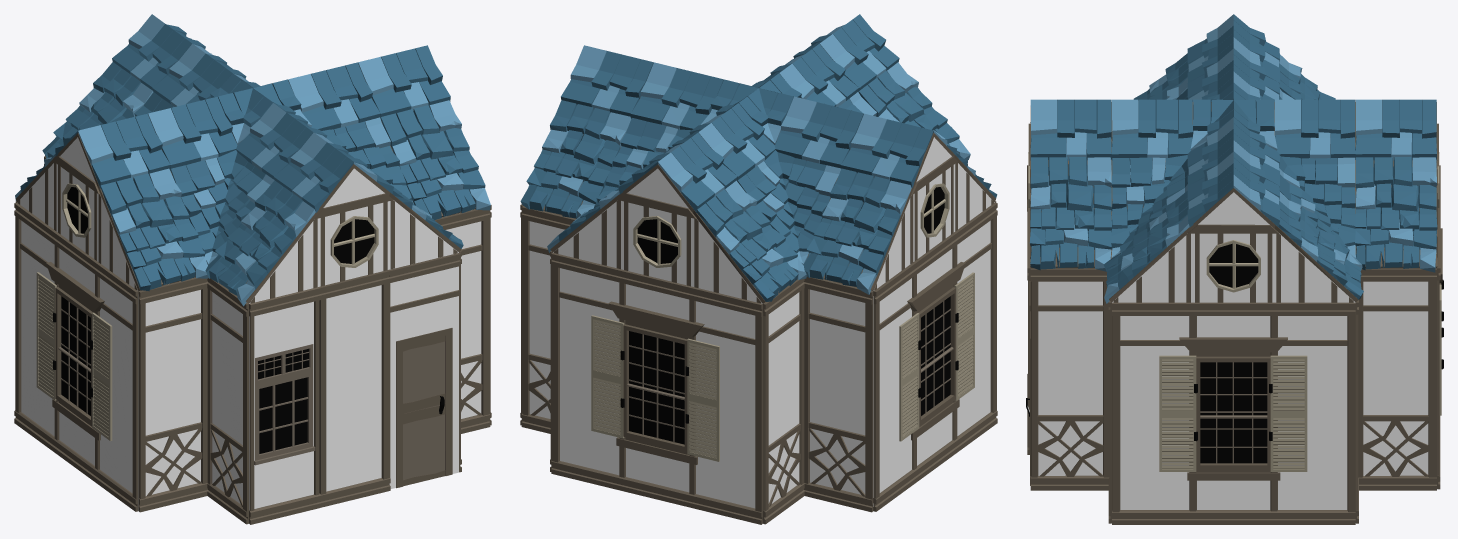
File: House_02_full.glb
3 views of the same model, side by side, from view 1: azimuth 30°, elevation 25°; view 2: azimuth 150°, elevation 25°; view 3: azimuth 270°, elevation 25° (orthographic).
Visible parts, largest first — view 1: WINDOW_07_2, WALL_03_2, WINDOW_04_2, WALL_04_3, DOOR_01_2, WALL_04_2, ROOF_base_3, ROOF_base_5, WALL_04_8, ROOF_base_2, ROOF_inner_corner_2, ROOF_Window_round_5 (+21 smaller); view 2: WINDOW_07_3, WINDOW_07_2, WALL_04_4, WALL_04_5, ROOF_base_9, ROOF_base_7, WALL_04_7, ROOF_base_8, ROOF_inner_corner_5, ROOF_Window_round_3, ROOF_base_small_15, ROOF_base_small_11 (+19 smaller); view 3: WINDOW_07_4, WALL_04_9, WALL_04_6, ROOF_base_6, ROOF_base_4, ROOF_Window_round_2, ROOF_inner_corner_3, ROOF_inner_corner_4, ROOF_base_small_8, ROOF_base_small_14, ROOF_base_small_13, ROOF_base_small_7 (+20 smaller).
Part boxes in pixels (bbox=[...]): WINDOW_07_2: bbox=[14, 202, 138, 511]; WALL_03_2: bbox=[319, 270, 390, 507]; WINDOW_04_2: bbox=[249, 287, 320, 524]; WALL_04_3: bbox=[138, 277, 207, 512]; DOOR_01_2: bbox=[389, 252, 460, 488]; WALL_04_2: bbox=[207, 278, 248, 524]; ROOF_base_3: bbox=[98, 168, 208, 291]; ROOF_base_5: bbox=[381, 100, 490, 219]; WALL_04_8: bbox=[435, 209, 490, 433]; ROOF_base_2: bbox=[205, 180, 318, 306]; ROOF_inner_corner_2: bbox=[170, 150, 274, 264]; ROOF_Window_round_5: bbox=[319, 201, 388, 286]; WINDOW_07_3: bbox=[551, 252, 762, 524]; WINDOW_07_2: bbox=[873, 202, 997, 511]; WALL_04_4: bbox=[804, 277, 873, 512]; WALL_04_5: bbox=[763, 279, 804, 524]; ROOF_base_9: bbox=[803, 168, 913, 294]; ROOF_base_7: bbox=[520, 100, 630, 218]; WALL_04_7: bbox=[521, 206, 575, 433]; ROOF_base_8: bbox=[693, 180, 806, 303]; ROOF_inner_corner_5: bbox=[737, 150, 841, 264]; ROOF_Window_round_3: bbox=[623, 201, 692, 286]; ROOF_base_small_15: bbox=[841, 113, 933, 188]; ROOF_base_small_11: bbox=[561, 45, 653, 118]; WINDOW_07_4: bbox=[1112, 302, 1355, 524]; WALL_04_9: bbox=[1030, 268, 1109, 490]; WALL_04_6: bbox=[1358, 268, 1436, 490]; ROOF_base_6: bbox=[1355, 156, 1437, 272]; ROOF_base_4: bbox=[1029, 155, 1111, 271]; ROOF_Window_round_2: bbox=[1193, 233, 1274, 302]; ROOF_inner_corner_3: bbox=[1111, 155, 1188, 258]; ROOF_inner_corner_4: bbox=[1279, 155, 1355, 258]; ROOF_base_small_8: bbox=[1030, 99, 1111, 160]; ROOF_base_small_14: bbox=[1355, 99, 1437, 160]; ROOF_base_small_13: bbox=[1274, 99, 1355, 159]; ROOF_base_small_7: bbox=[1111, 99, 1192, 160].
Size of the model in its own units: 5.17 by 4.59 by 5.14.
Materials: 1 (1 with a texture image).
